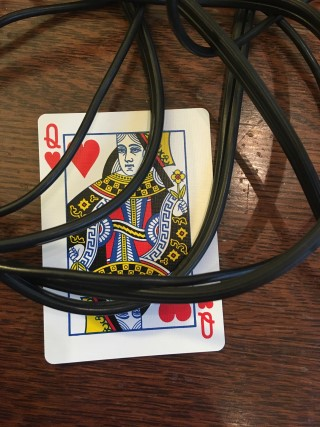QueenOfHearts: (39, 107, 226, 364)
